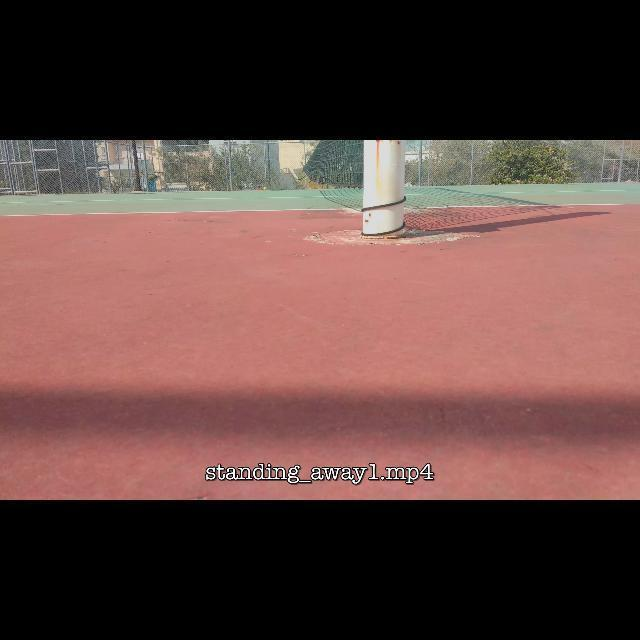tennis-ball: (263, 187, 266, 190)
